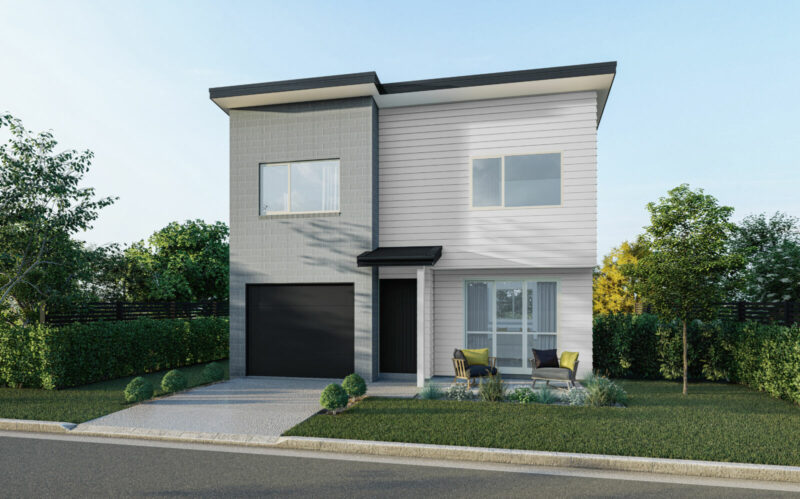Window: (463, 278, 559, 379), (467, 146, 565, 208), (255, 156, 341, 219)
